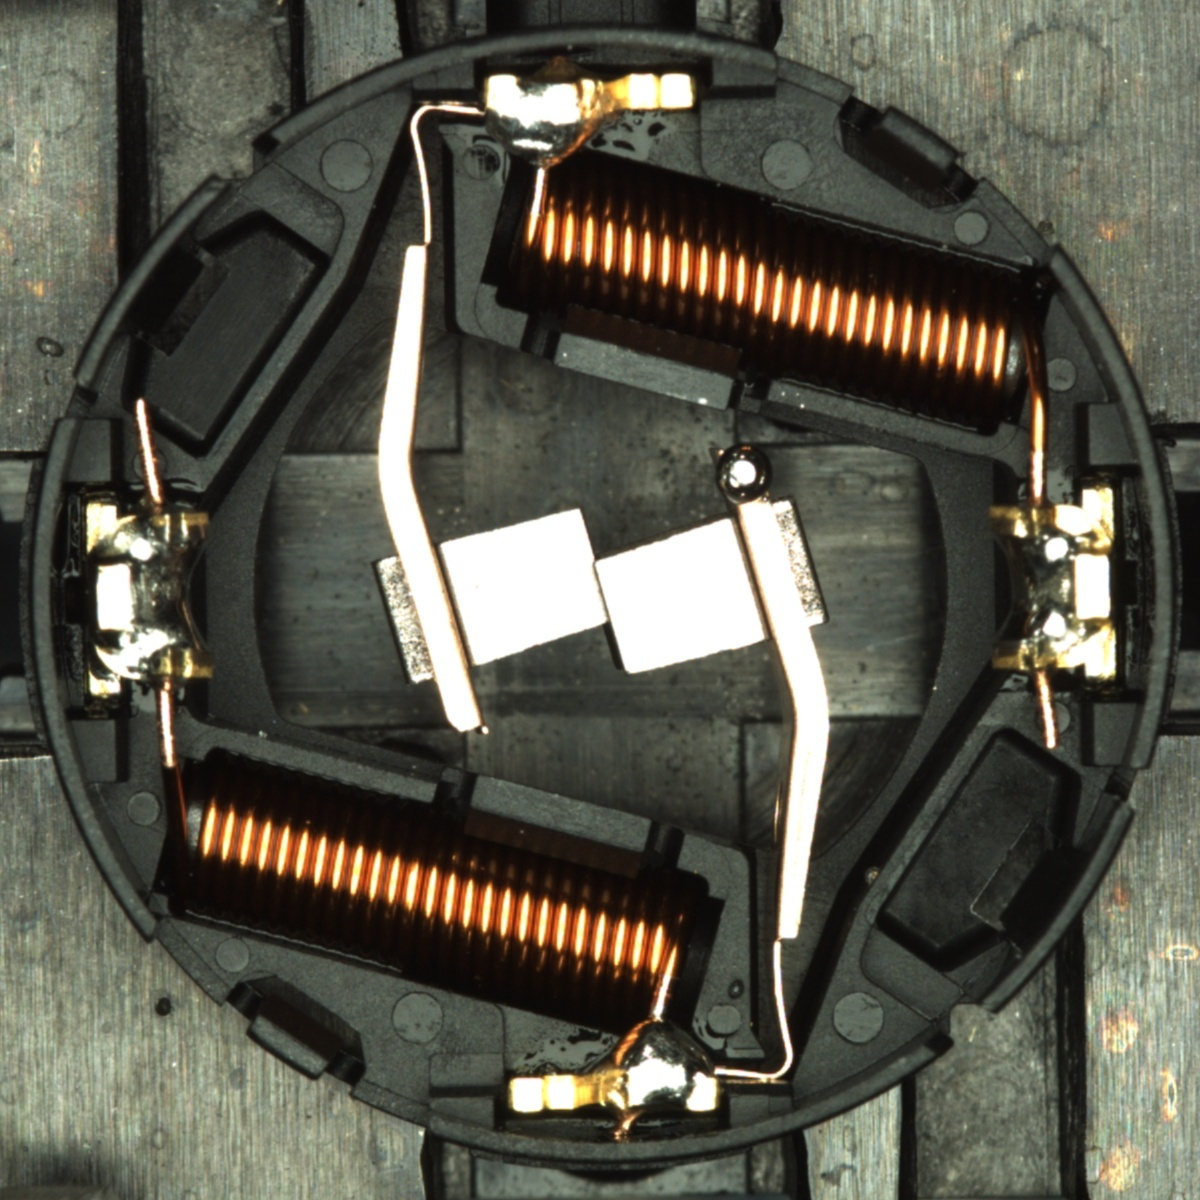1: (258, 55, 487, 279), (716, 953, 945, 1177)
2: (716, 55, 945, 279), (258, 953, 487, 1177)
3: (28, 279, 258, 504), (945, 728, 1175, 953)
4: (258, 279, 487, 504), (716, 728, 945, 953)
5: (487, 167, 716, 392), (487, 840, 716, 1065)
6: (258, 728, 487, 953)
7: (945, 279, 1175, 504), (28, 728, 258, 953)
chau_dien: (982, 485, 1123, 685), (80, 495, 219, 697)
hat_chi: (713, 441, 775, 503)
tay_choi: (481, 71, 701, 172), (508, 1017, 722, 1118)
thanh_de: (954, 786, 1142, 1031), (60, 164, 244, 403)
